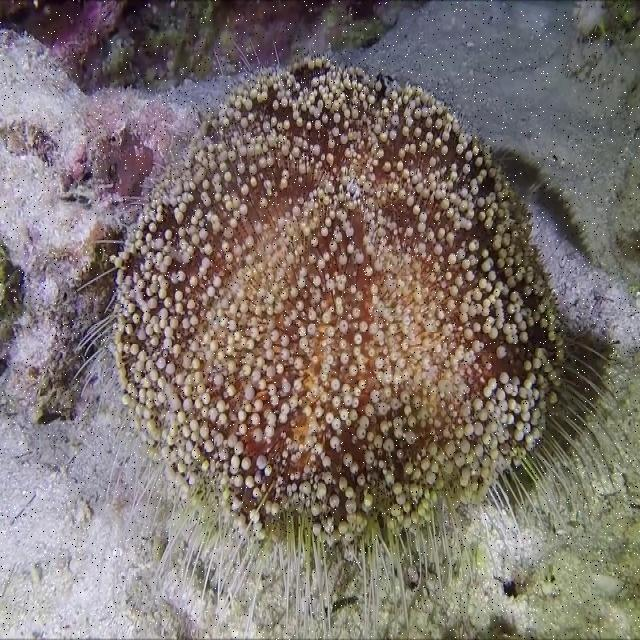reefs: (116, 50, 564, 549)
